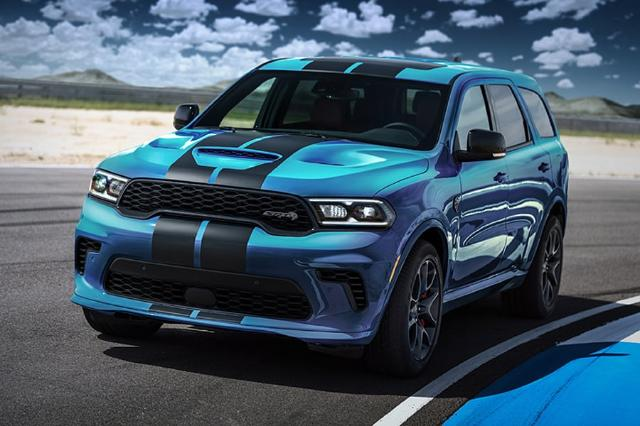dodge: (68, 56, 570, 374)
